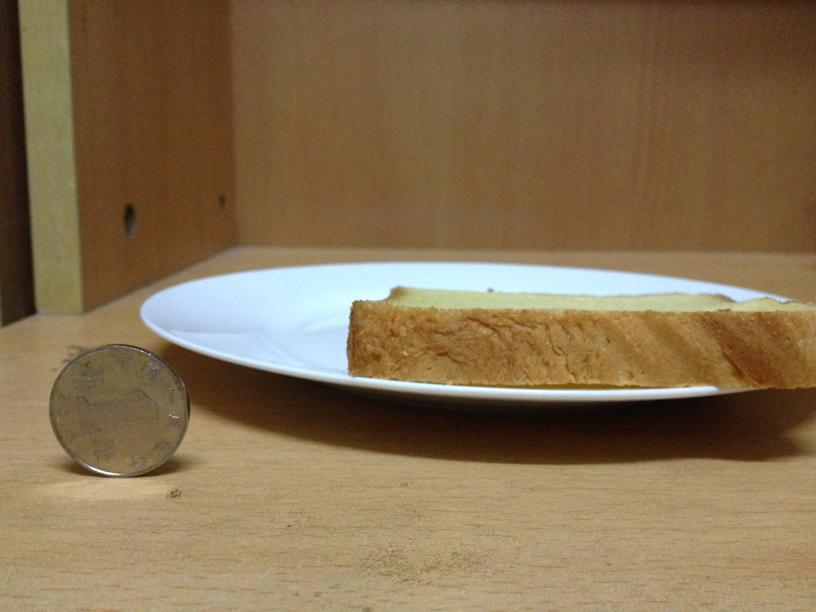bread: (344, 283, 816, 387)
coin: (47, 343, 189, 479)
